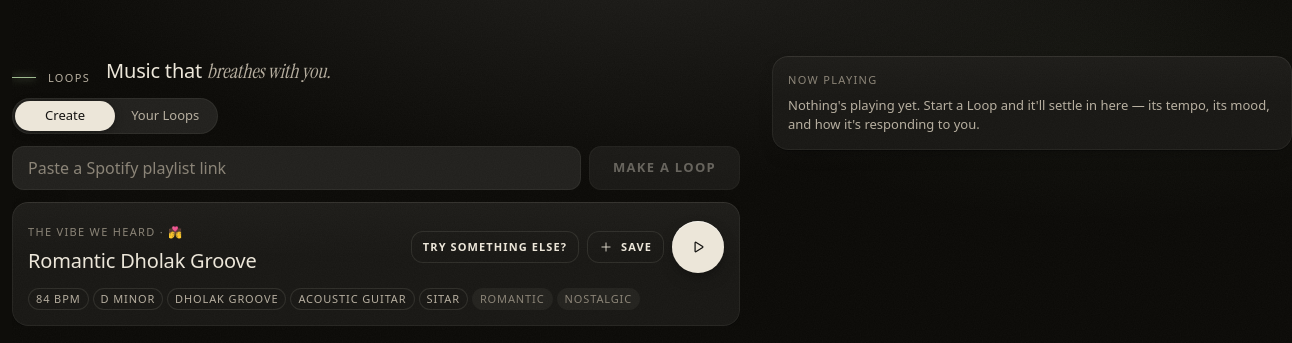
Test: Loops — Create › plays, tries something else, and saves — and Now playing follows along
Click the button named "Play this Loop". click: (698, 247)
box: [672,221,724,273]
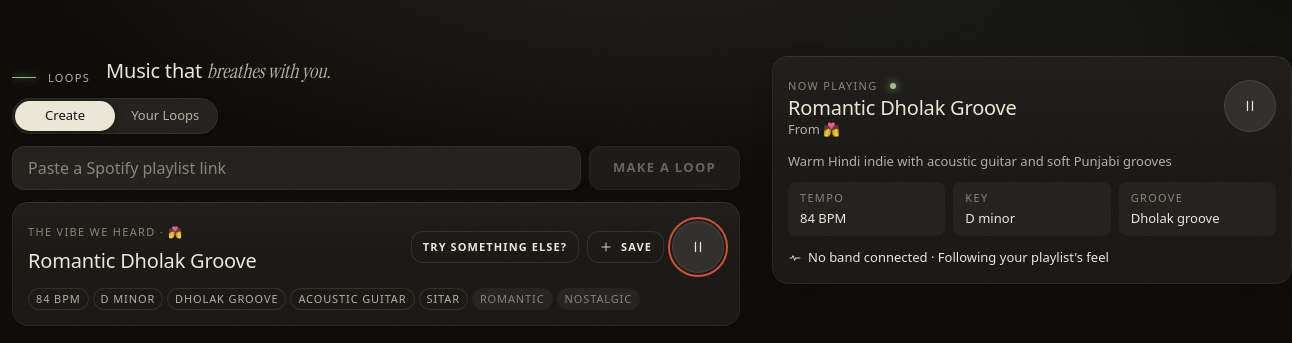
Now the text "Romantic Dholak Groove" below "Now playing" is shown, box [788,94,1017,121]
Now the text "From 💏" is shown, box [788,120,840,138]
Click the button "Try something else?". click: (495, 247)
box: [411,231,579,263]
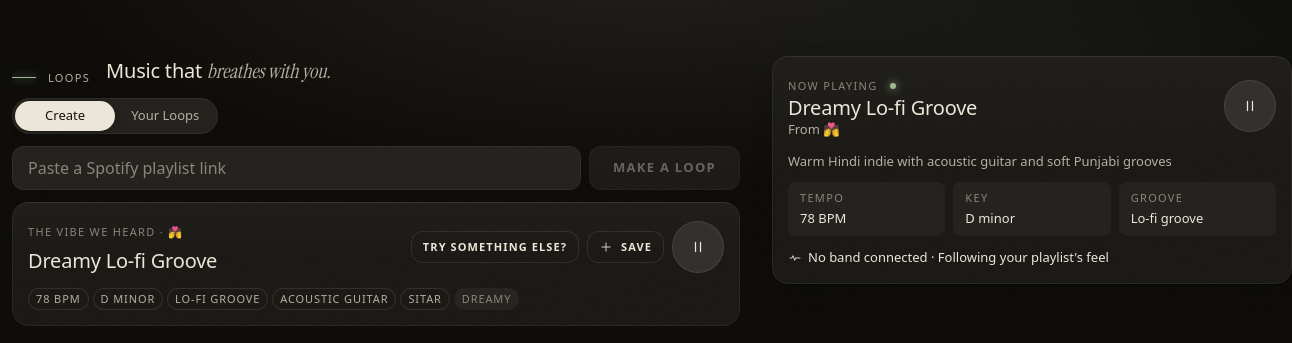
Now the text "Dreamy Lo-fi Groove" below "The vibe we heard" is shown, box [28,247,217,274]
Now the text "Dreamy Lo-fi Groove" below "Now playing" is shown, box [788,94,977,121]
Click the button with aria-label "Save to Your Loops". click: (626, 247)
box: [587,231,664,263]
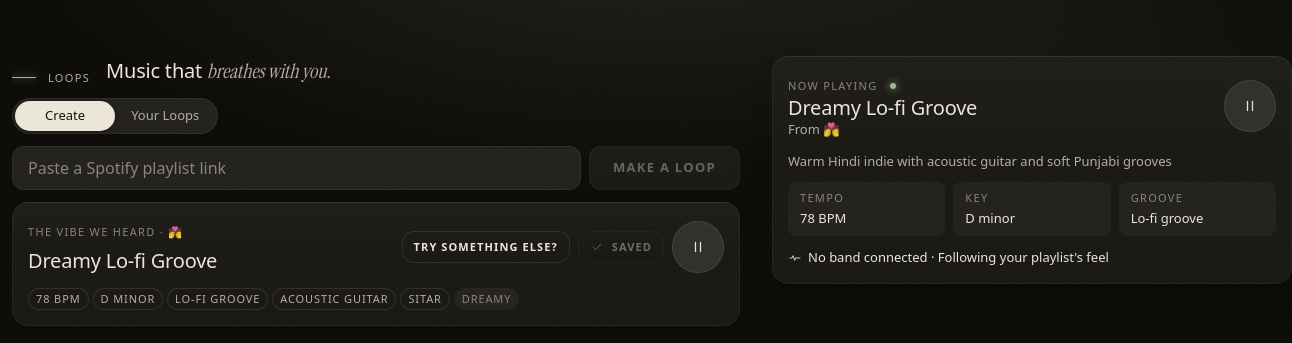
Now the button with aria-label "In Your Loops" is shown, box [578,231,664,263]
